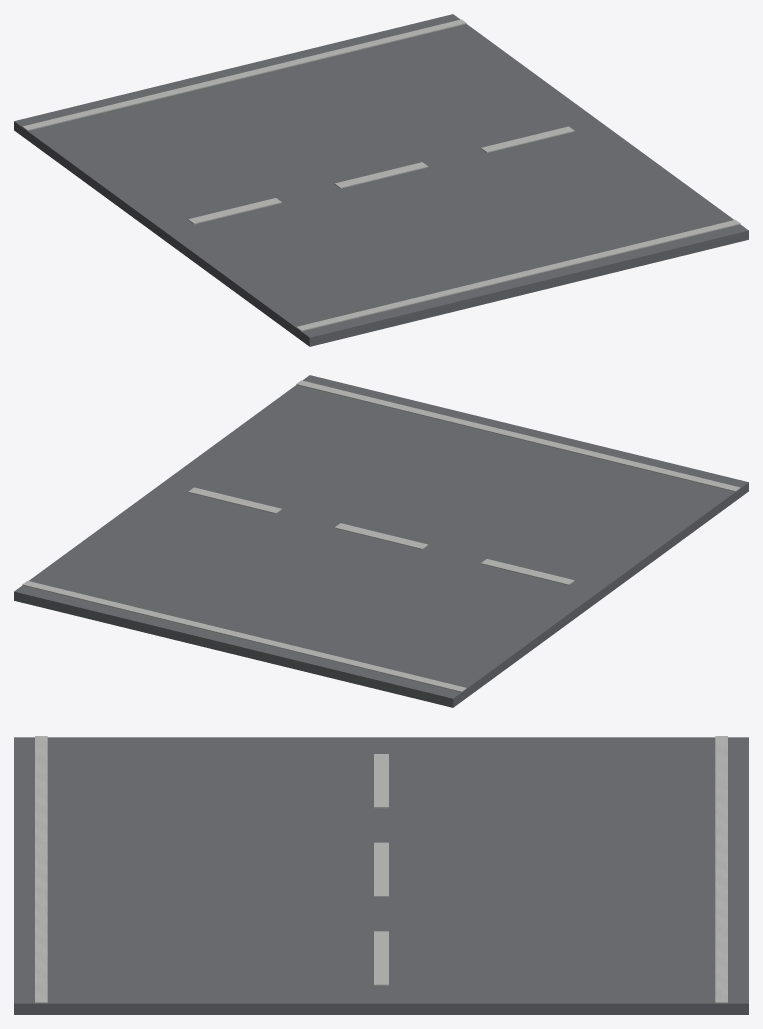
The model's file is bus-station-and-city-transit-road-tile-plain-80d6af3f__34216.glb.
3 renders of one model, top to bottom at view 1: azimuth 30°, elevation 25°; view 2: azimuth 150°, elevation 25°; view 3: azimuth 270°, elevation 25°, orthographic. The views are drawn at different scales.
Parts seen in each view (by area): view 1: road-tile-plain-charcoal, road-tile-plain-concrete; view 2: road-tile-plain-charcoal, road-tile-plain-concrete; view 3: road-tile-plain-charcoal, road-tile-plain-concrete.
Boxes of the visible parts, bbox=[...] form: road-tile-plain-charcoal: bbox=[14, 14, 748, 346]; road-tile-plain-concrete: bbox=[22, 19, 740, 331]; road-tile-plain-charcoal: bbox=[14, 375, 748, 707]; road-tile-plain-concrete: bbox=[22, 380, 740, 692]; road-tile-plain-charcoal: bbox=[14, 737, 748, 1014]; road-tile-plain-concrete: bbox=[35, 736, 727, 1003].
Size of the model in its own units: 6 by 0.1319 by 7.
2 materials, 1 textured.
